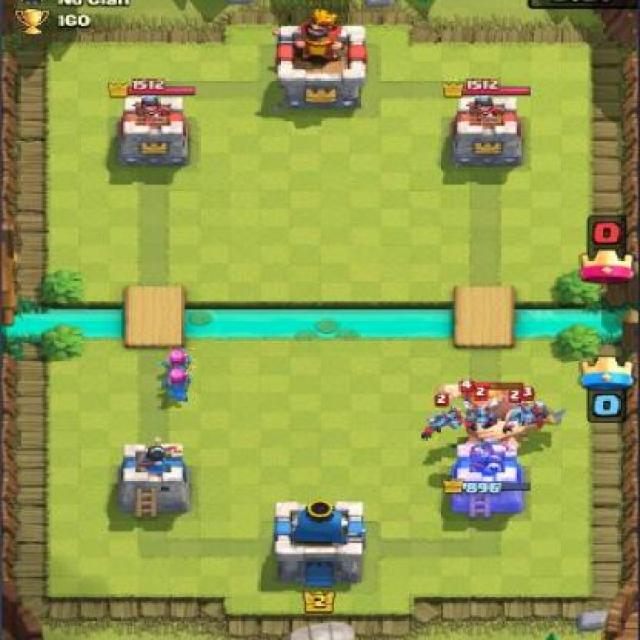Enemy-Giant: (434, 379, 538, 452)
Enemy-Knight: (506, 382, 571, 438)
Enemy-Minion: (417, 392, 466, 443), (499, 388, 543, 437), (459, 386, 503, 434)
Player-Archer: (160, 343, 200, 386), (163, 366, 202, 403)
